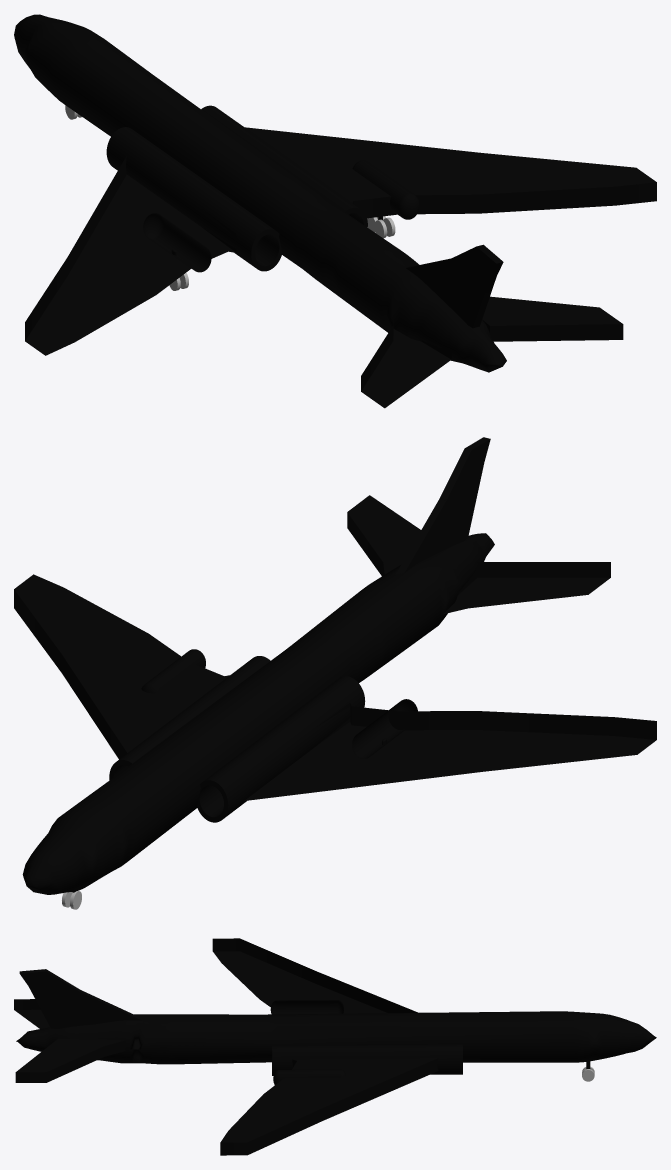
File: tupolep TU-104 (PROTOTYPE).glb
3 renders of one model, top to bottom at view 1: azimuth 30°, elevation 25°; view 2: azimuth 150°, elevation 25°; view 3: azimuth 270°, elevation 25°, orthographic. The views are drawn at different scales.
Visible parts, largest first — view 1: node_id388; view 2: node_id388; view 3: node_id388.
Part boxes in pixels (x1,y1,x2,y2): node_id388: (14,14,656,408); node_id388: (14,437,656,909); node_id388: (14,938,656,1155).
Bounding box in the file's own units: 15.08 × 3.82 × 20.06.
Materials: 13 (13 with a texture image).
